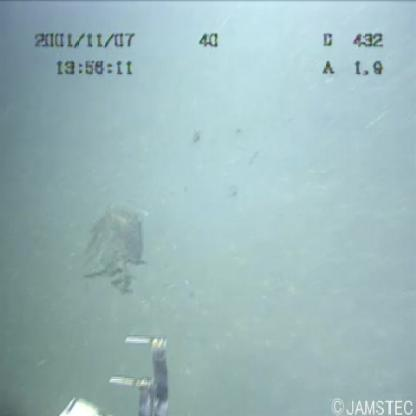Rov: (46, 326, 178, 416)
Rác: (65, 193, 166, 295)
